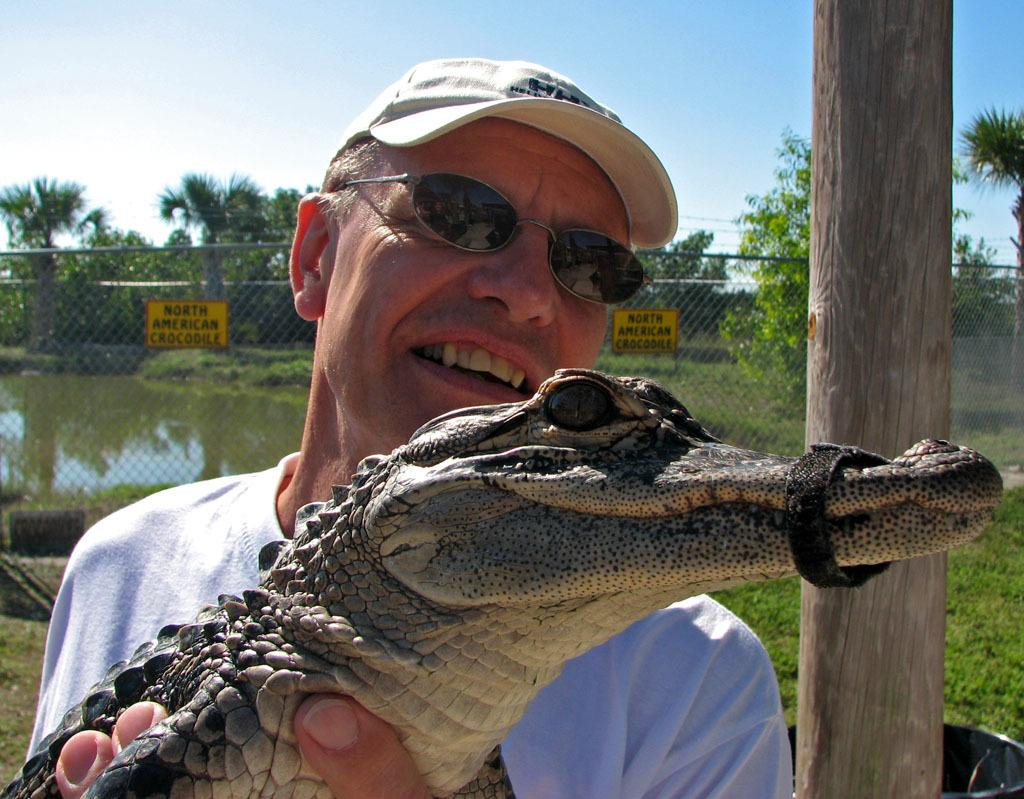Hat: (317, 59, 677, 253)
